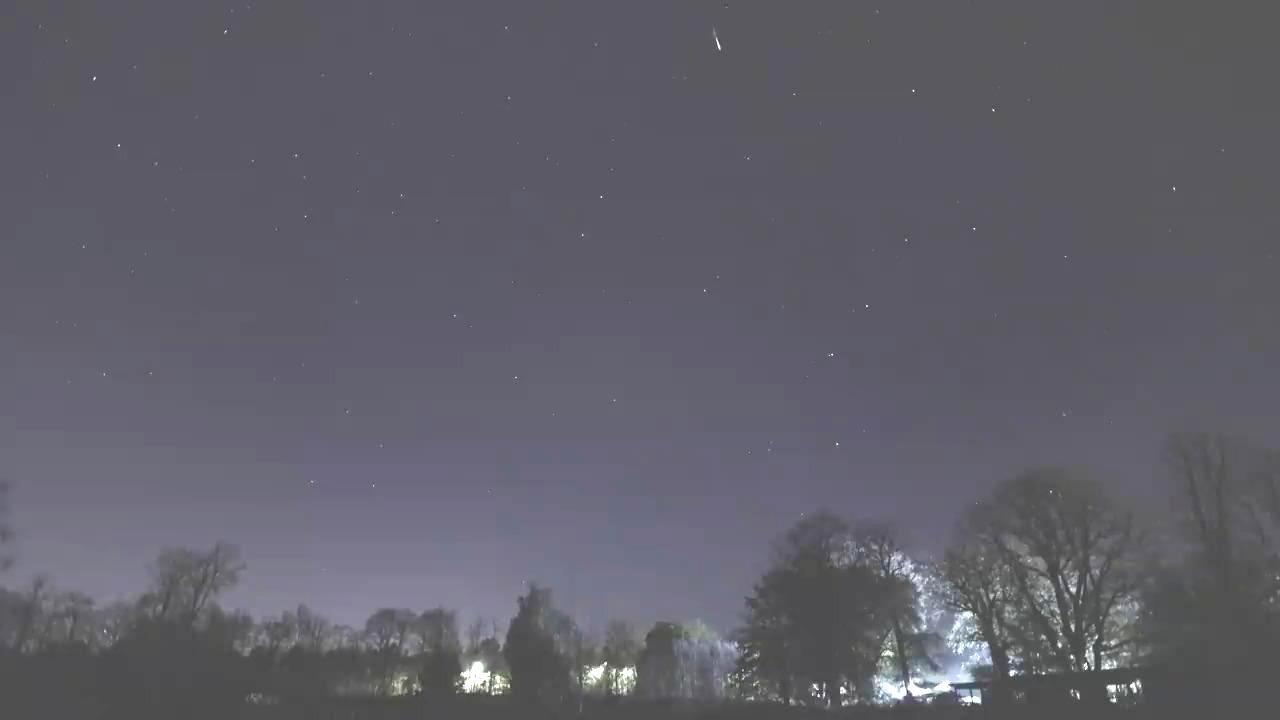meteorite: (670, 24, 758, 56)
